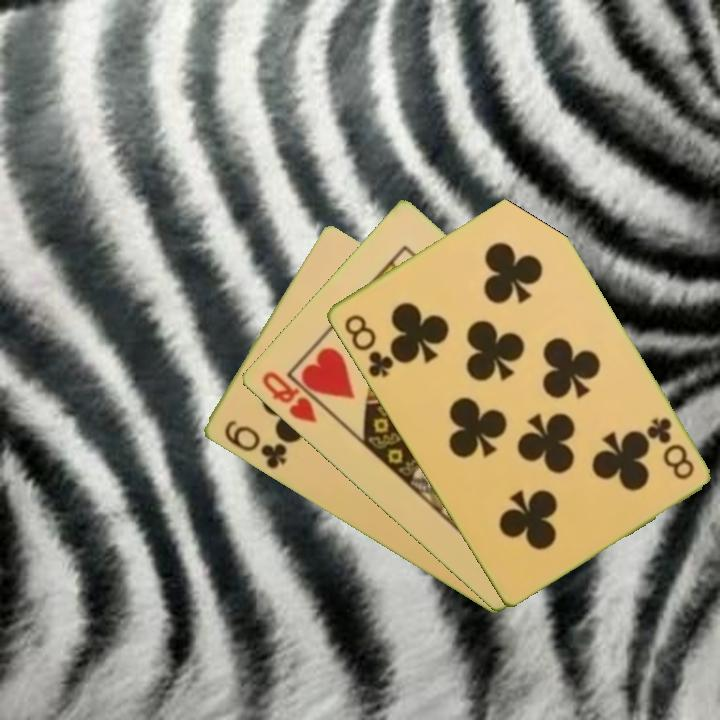6c: (219, 416, 290, 472)
8c: (340, 310, 396, 380), (642, 414, 697, 483)
Qh: (258, 367, 331, 426)
